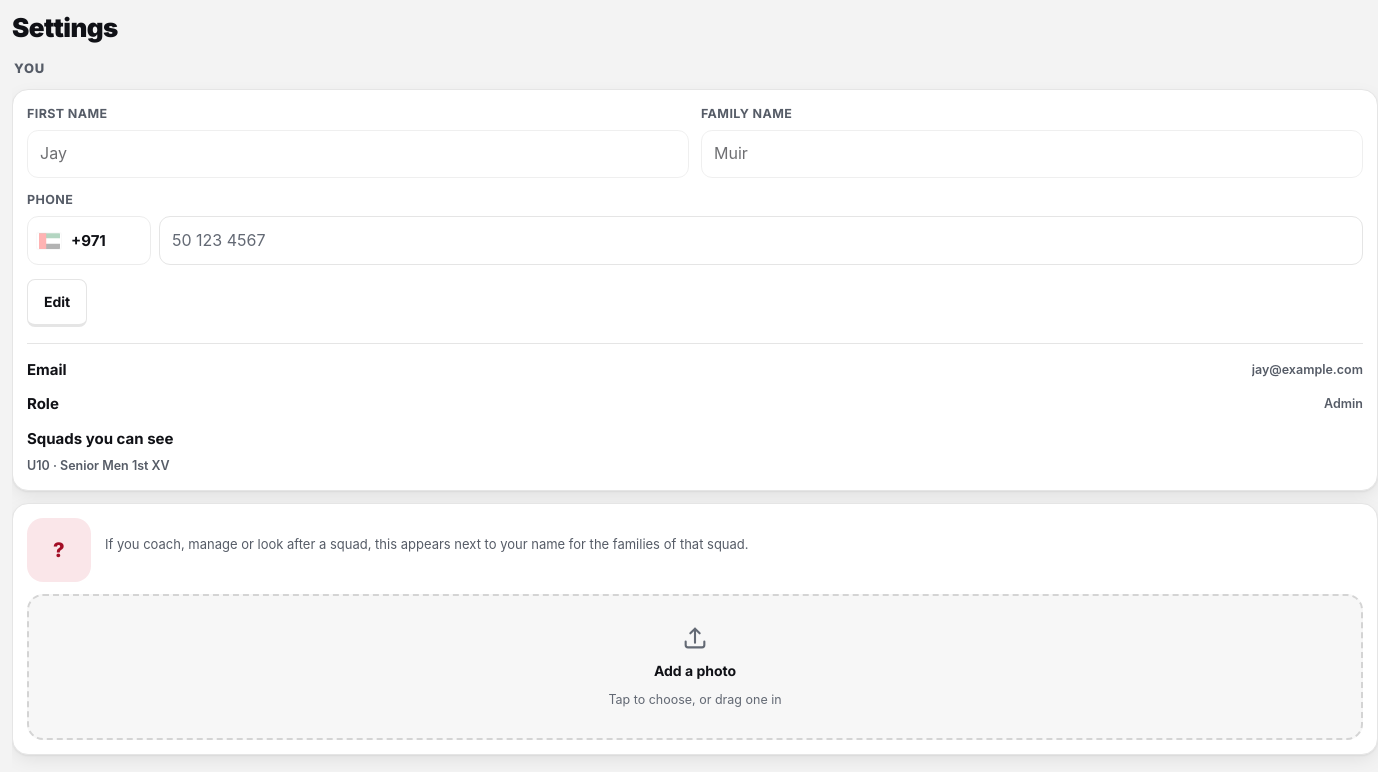
Scenario: More — the You card is read-only until Edit › makes the fields editable when Edit is pressed
The image size is (1378, 772).
Click the button "Edit". click: (57, 303)
box: x1=27 y1=279 x2=87 y2=327
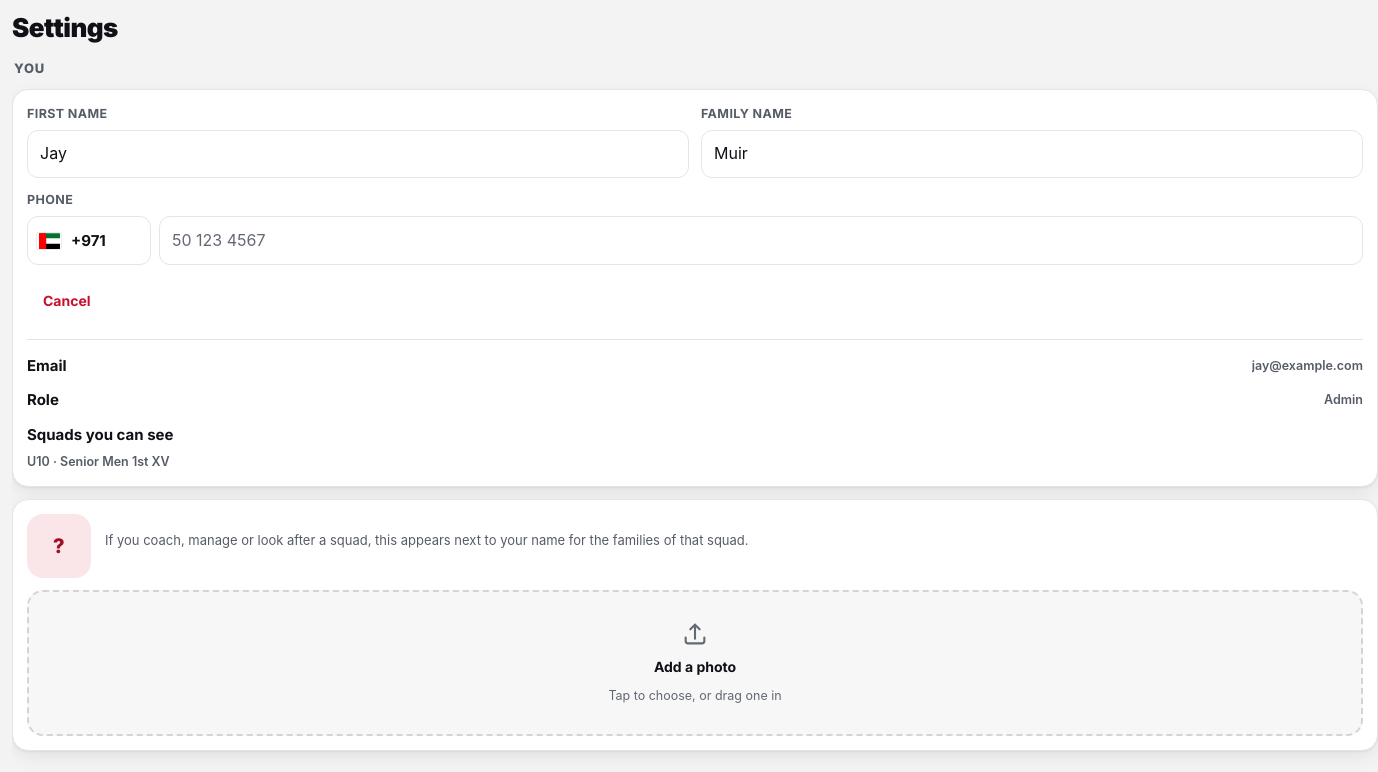
Expected: the field labelled "Phone" is enabled, x1=159 y1=216 x2=1363 y2=265
Expected: the field labelled "First name" is enabled, x1=27 y1=130 x2=689 y2=178
